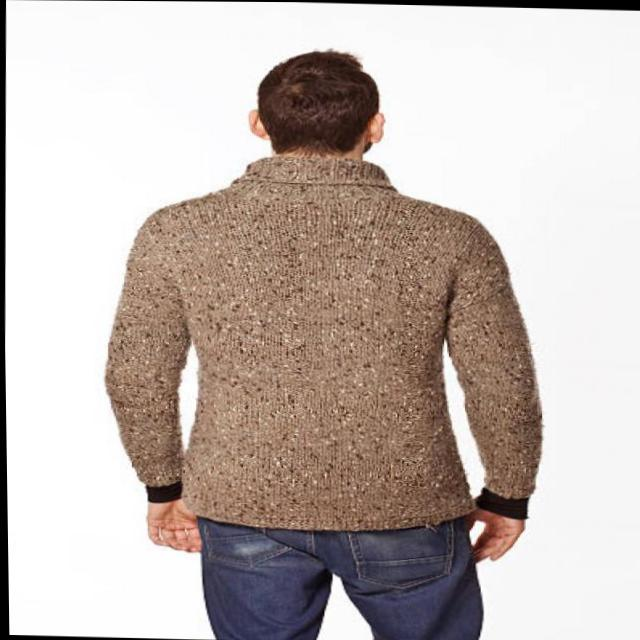no helmet: (245, 48, 396, 153)
